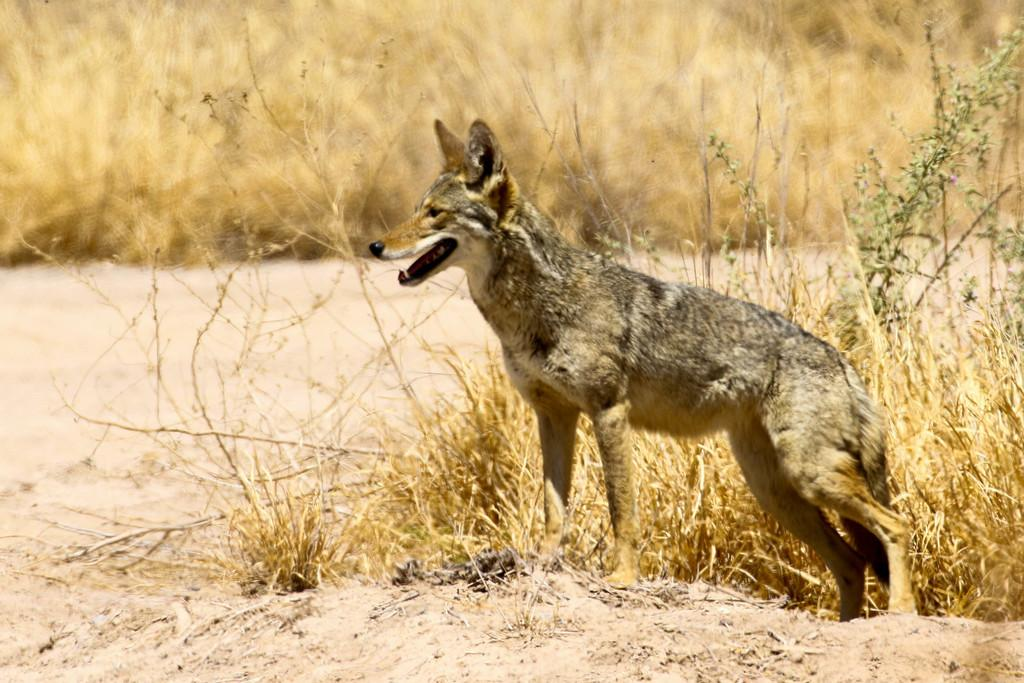Coyote: (363, 112, 920, 619)
